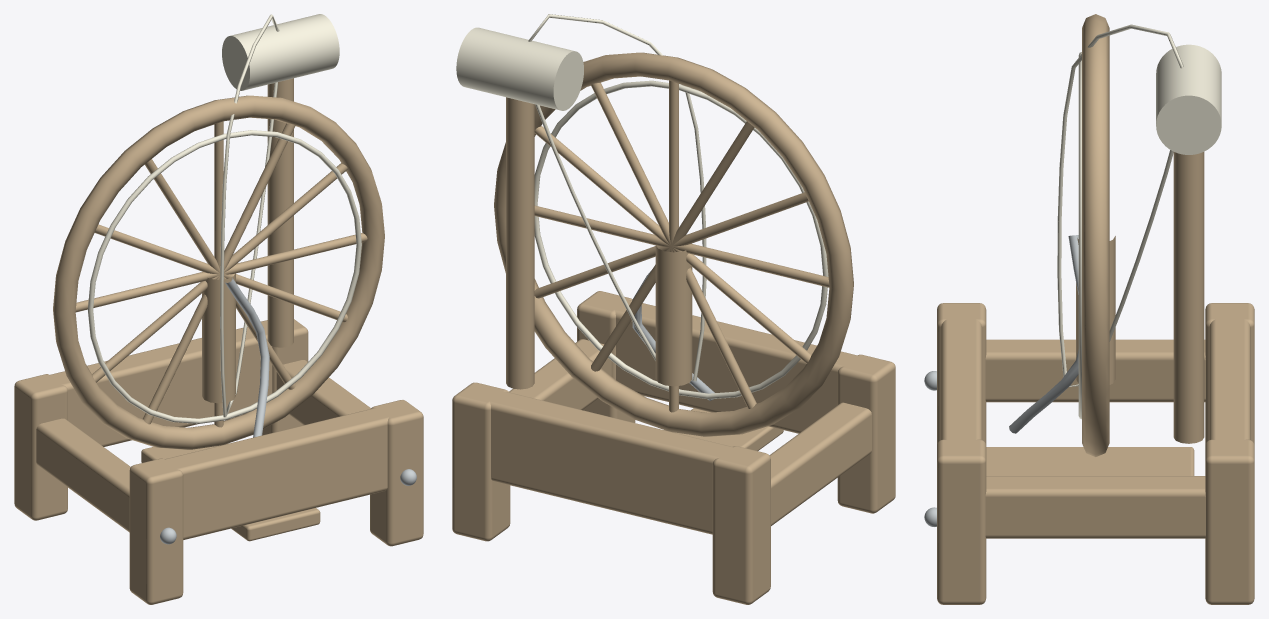
The model's file is textile-weaving-and-dye-workshop-spinning-wheel-5aff8fcd__29544.glb.
The picture shows the model from 3 angles, left to right: view 1: azimuth 30°, elevation 25°; view 2: azimuth 150°, elevation 25°; view 3: azimuth 270°, elevation 25°; orthographic projection. The views are drawn at different scales.
Visible parts, largest first — view 1: spinning-wheel; view 2: spinning-wheel; view 3: spinning-wheel.
Boxes of the visible parts, left/top/right/bottom form: spinning-wheel: left=14, top=14, right=423, bottom=604; spinning-wheel: left=452, top=14, right=895, bottom=604; spinning-wheel: left=924, top=14, right=1254, bottom=604.
Size of the model in its own units: 0.81 by 1.09 by 0.603.
